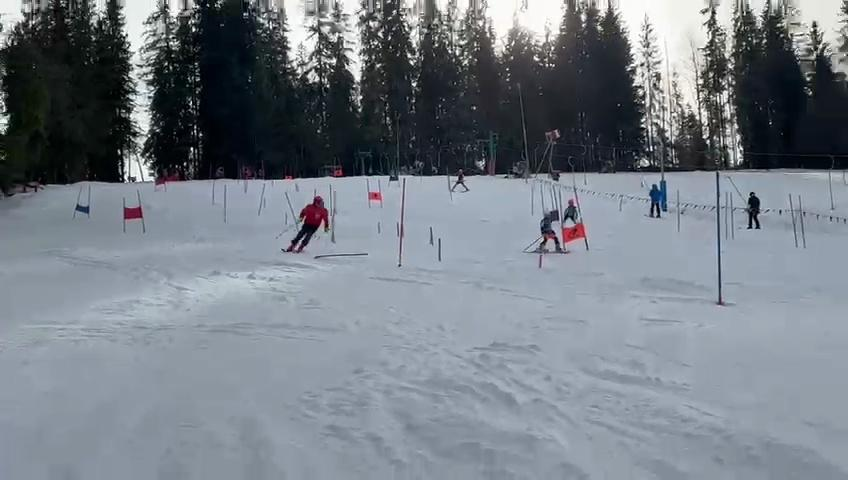gate: (705, 168, 725, 310), (394, 178, 408, 270), (782, 190, 796, 256), (134, 189, 151, 234), (284, 198, 303, 234), (796, 197, 809, 249), (66, 187, 82, 224), (314, 251, 372, 261), (254, 183, 267, 220), (330, 187, 339, 240), (726, 192, 736, 239), (118, 194, 128, 236), (221, 182, 229, 224), (375, 178, 384, 210), (209, 173, 217, 208), (534, 251, 546, 272), (86, 182, 92, 223), (364, 179, 372, 208), (437, 239, 446, 263), (427, 223, 435, 245), (377, 220, 381, 236)
